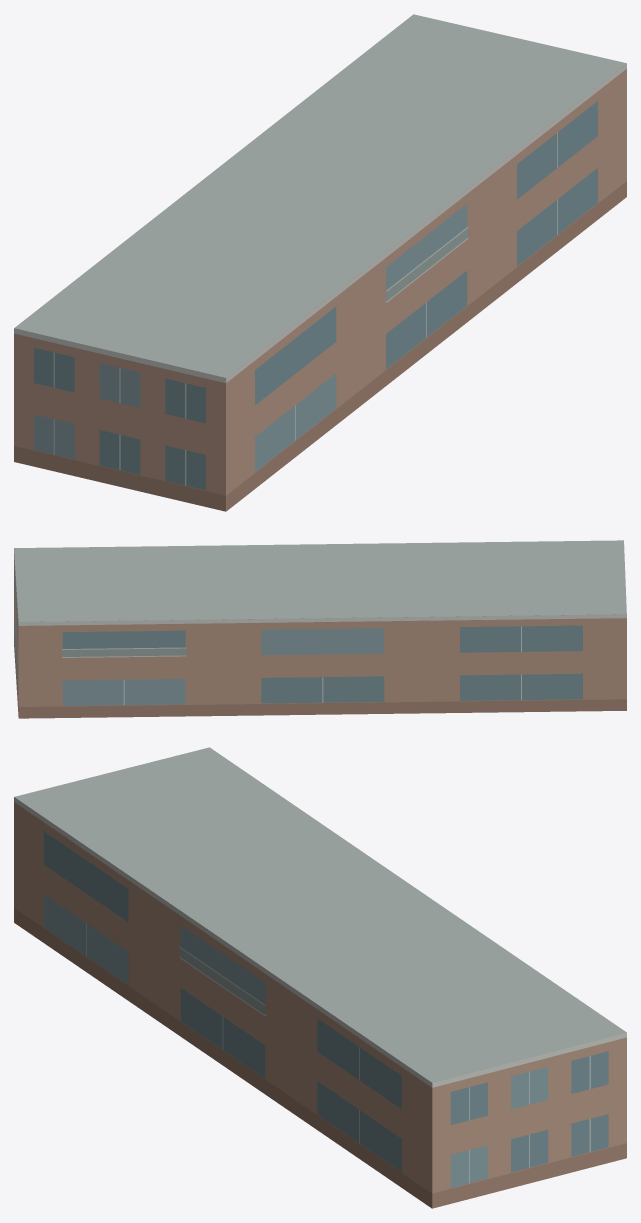
The model's file is survey-upis-32490417.glb.
3 views of the same model, one above another, from view 1: azimuth 30°, elevation 25°; view 2: azimuth 150°, elevation 25°; view 3: azimuth 270°, elevation 25° (orthographic). The views are drawn at different scales.
Visible parts, largest first — view 1: survey-upis-32490417.tmp; view 2: survey-upis-32490417.tmp; view 3: survey-upis-32490417.tmp.
Part boxes in pixels (box(x1,y1,x2,y2)): survey-upis-32490417.tmp: box(14, 14, 626, 511); survey-upis-32490417.tmp: box(14, 540, 626, 718); survey-upis-32490417.tmp: box(14, 747, 626, 1208).
Size of the model in its own units: 34.91 by 6.1 by 26.94.
